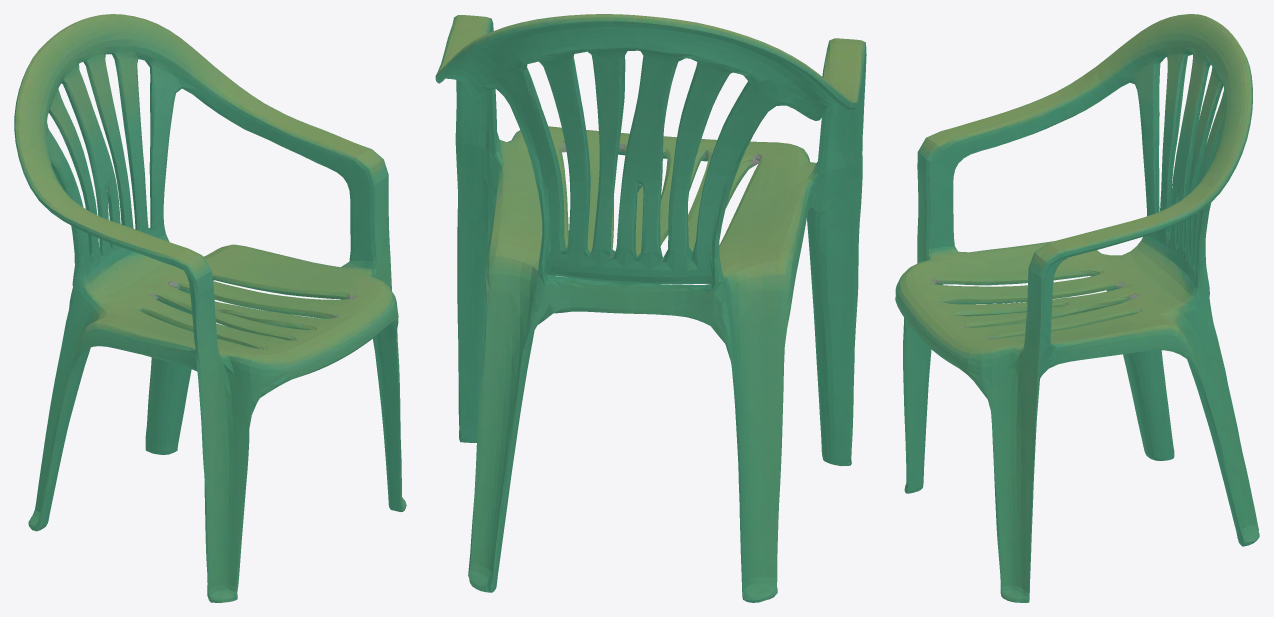
Rendered from silla.glb.
3 renders of one model, left to right at view 1: azimuth 30°, elevation 25°; view 2: azimuth 150°, elevation 25°; view 3: azimuth 270°, elevation 25°, orthographic. The views are drawn at different scales.
Parts seen in each view (by area): view 1: tripo_node_428dd9ea-5de7-4191-afcc-62df09eb9b0c; view 2: tripo_node_428dd9ea-5de7-4191-afcc-62df09eb9b0c; view 3: tripo_node_428dd9ea-5de7-4191-afcc-62df09eb9b0c.
Part boxes in pixels (<box>): tripo_node_428dd9ea-5de7-4191-afcc-62df09eb9b0c: <box>14,14,406,602</box>; tripo_node_428dd9ea-5de7-4191-afcc-62df09eb9b0c: <box>435,14,866,602</box>; tripo_node_428dd9ea-5de7-4191-afcc-62df09eb9b0c: <box>895,14,1259,602</box>.
Size of the model in its own units: 0.749 by 0.9792 by 0.7034.
1 material, 1 textured.
